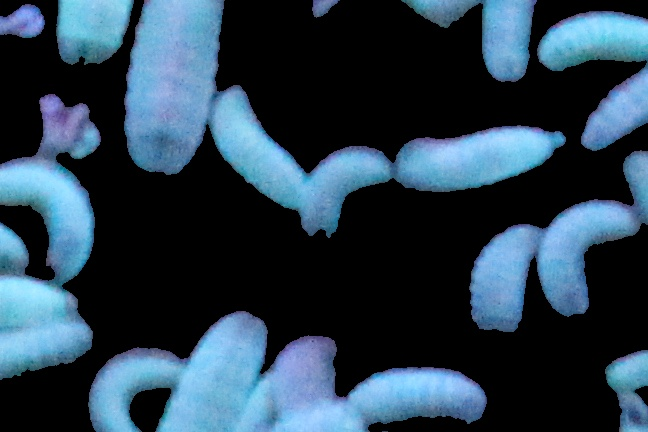larvae: (123, 1, 222, 170), (535, 198, 639, 320), (215, 87, 308, 214), (1, 154, 94, 277), (395, 124, 556, 192), (176, 310, 265, 432), (347, 359, 486, 432), (301, 146, 393, 238), (85, 348, 184, 432), (474, 224, 537, 353), (538, 11, 648, 71), (47, 1, 139, 67), (1, 315, 93, 381), (584, 70, 648, 151), (479, 1, 532, 79), (1, 278, 79, 329)
